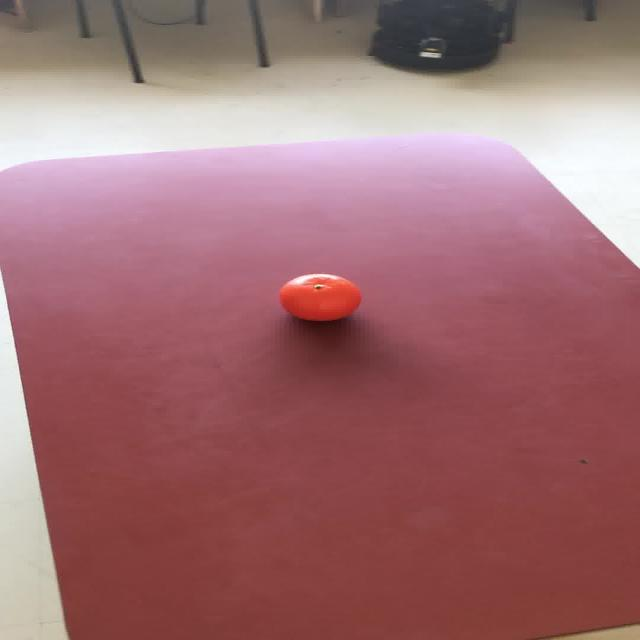orange: (278, 272, 361, 322)
